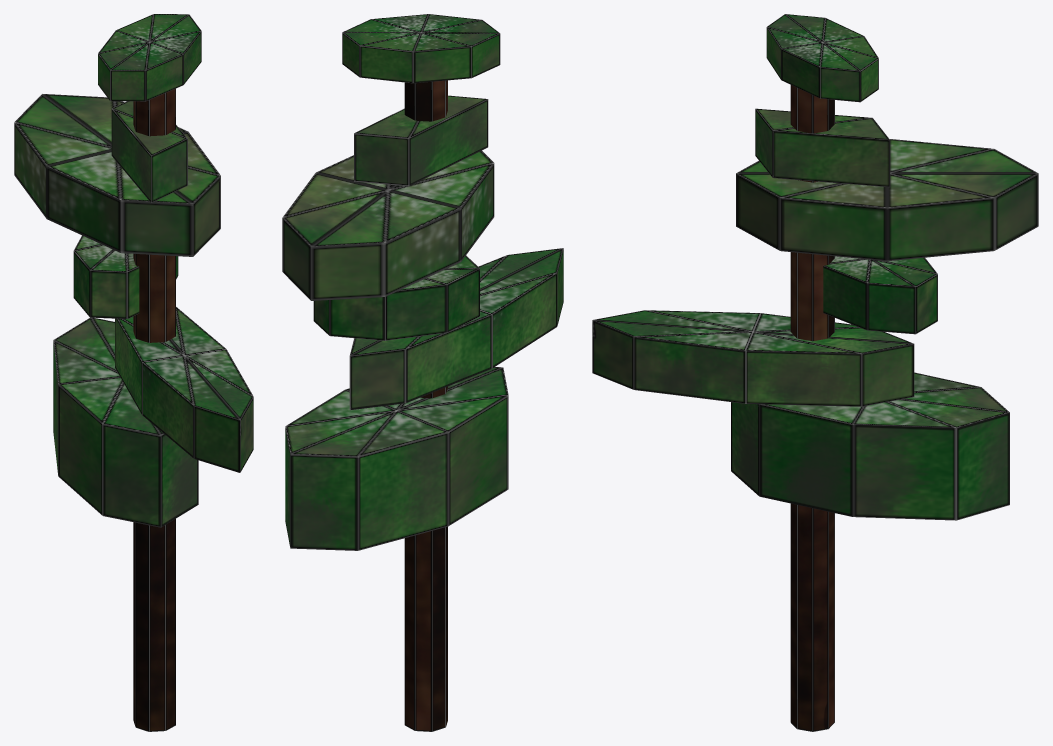
File: TREE_2.fbx
3 renders of one model, left to right at view 1: azimuth 30°, elevation 25°; view 2: azimuth 150°, elevation 25°; view 3: azimuth 270°, elevation 25°, orthographic. The views are drawn at different scales.
Parts seen in each view (by area): view 1: pCylinder13, pCylinder15, pCylinder14, trunk2, pCylinder18, pCylinder16, pCylinder17; view 2: pCylinder15, pCylinder13, pCylinder14, trunk2, pCylinder18, pCylinder16, pCylinder17; view 3: pCylinder15, pCylinder13, pCylinder14, trunk2, pCylinder16, pCylinder17, pCylinder18.
Part boxes in pixels (x1,y1,x2,y2): pCylinder13: [14, 94, 220, 256]; pCylinder15: [53, 317, 198, 527]; pCylinder14: [115, 307, 253, 472]; trunk2: [133, 88, 175, 731]; pCylinder18: [98, 14, 201, 101]; pCylinder16: [111, 101, 187, 202]; pCylinder17: [73, 235, 178, 318]; pCylinder15: [285, 367, 508, 550]; pCylinder13: [282, 150, 494, 300]; pCylinder14: [349, 248, 563, 410]; trunk2: [404, 80, 447, 731]; pCylinder18: [342, 14, 500, 83]; pCylinder16: [354, 95, 488, 186]; pCylinder17: [313, 255, 479, 340]; pCylinder15: [731, 372, 1009, 520]; pCylinder13: [736, 139, 1038, 261]; pCylinder14: [592, 310, 914, 406]; trunk2: [790, 85, 834, 731]; pCylinder16: [755, 108, 890, 187]; pCylinder17: [823, 256, 937, 334]; pCylinder18: [766, 14, 878, 102].
Size of the model in its own units: 2.23 by 10.17 by 6.05.
2 materials, 2 textured.
